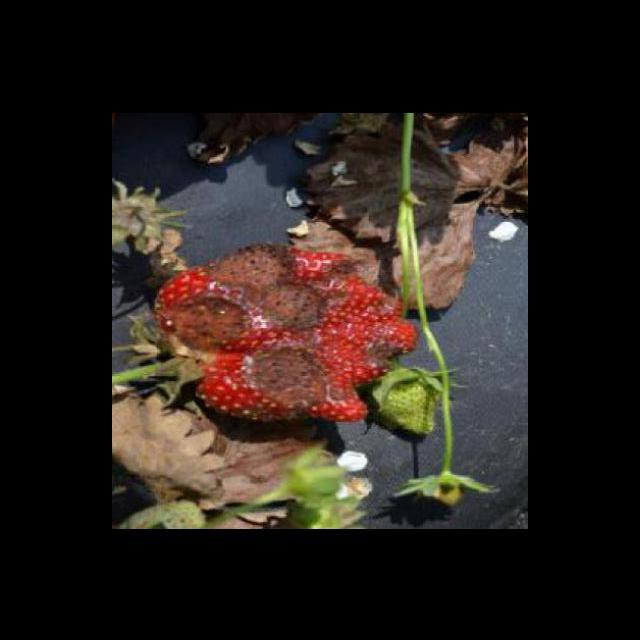Anthracnose Fruit Rot: (154, 238, 419, 421)
